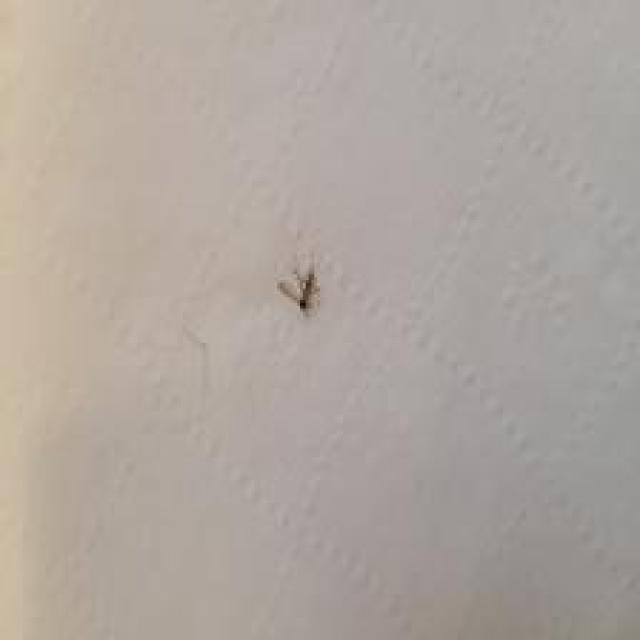Culex: (276, 264, 321, 316)
